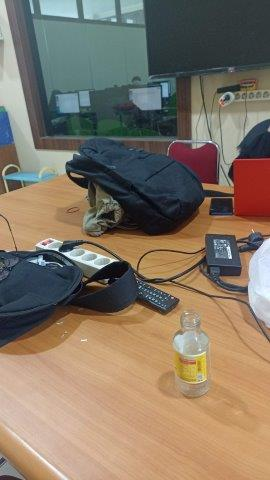botolkaca: (172, 311, 212, 398)
